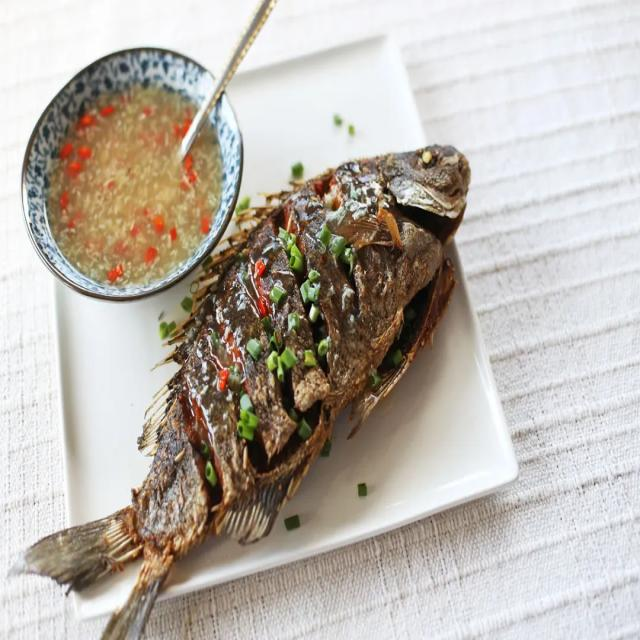Peixe: (8, 140, 471, 638)
